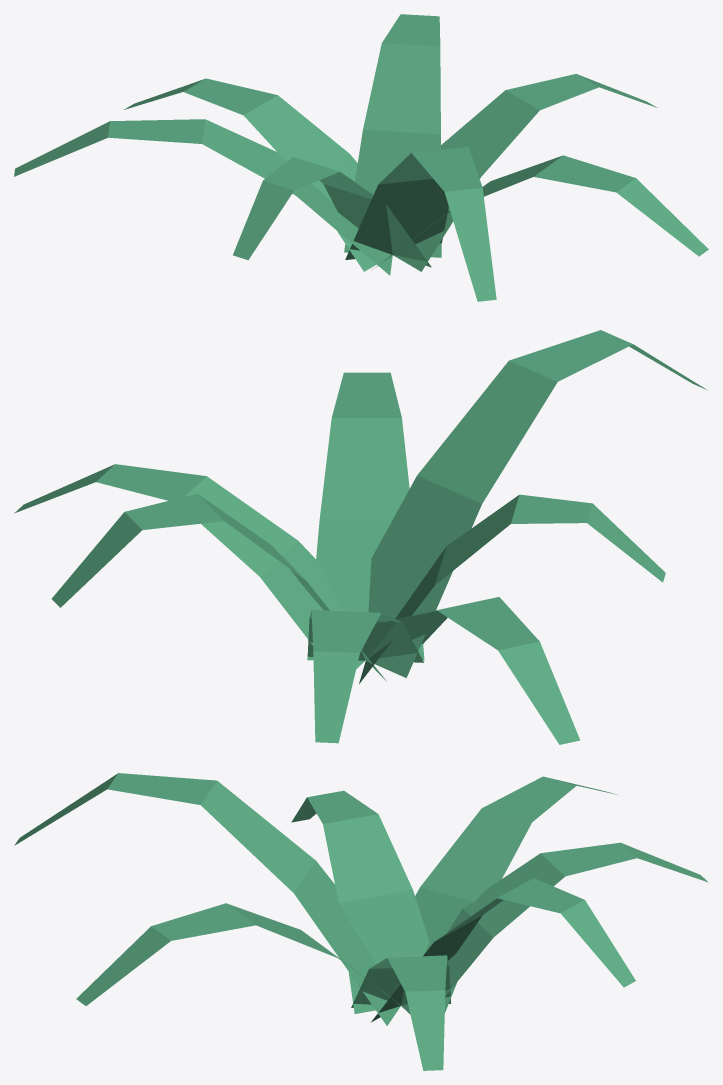
The model's file is Fern_A.glb.
3 renders of one model, top to bottom at view 1: azimuth 30°, elevation 25°; view 2: azimuth 150°, elevation 25°; view 3: azimuth 270°, elevation 25°, orthographic. The views are drawn at different scales.
Visible parts, largest first — view 1: Fern_A; view 2: Fern_A; view 3: Fern_A.
Boxes of the visible parts, bbox=[...] form: Fern_A: bbox=[14, 14, 708, 301]; Fern_A: bbox=[14, 330, 708, 744]; Fern_A: bbox=[14, 773, 708, 1070].
Bounding box in the file's own units: 1.3 × 0.4157 × 1.38.
